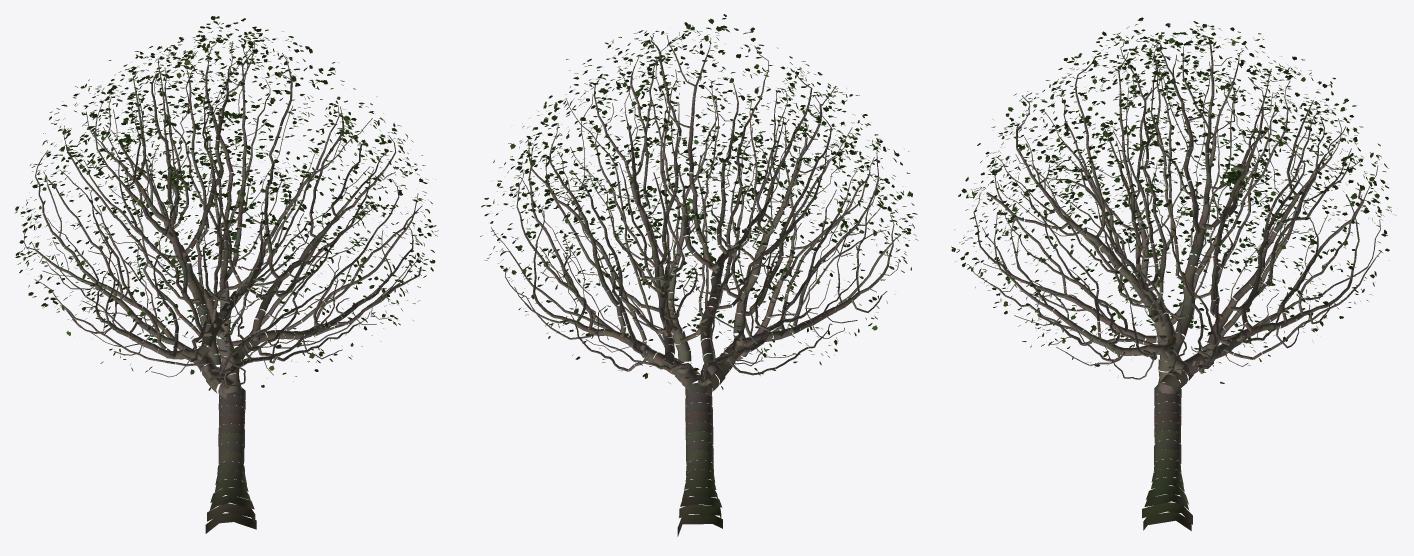
Rendered from SM_Tree_sycamore_0.glb.
3 views of the same model, side by side, from view 1: azimuth 30°, elevation 25°; view 2: azimuth 150°, elevation 25°; view 3: azimuth 270°, elevation 25° (orthographic). The views are drawn at different scales.
Visible parts, largest first — view 1: SM_Tree_sycamore_0; view 2: SM_Tree_sycamore_0; view 3: SM_Tree_sycamore_0.
Part boxes in pixels (x1,y1,x2,y2): SM_Tree_sycamore_0: (15,16,438,533); SM_Tree_sycamore_0: (480,14,918,536); SM_Tree_sycamore_0: (951,17,1396,530).
Size of the model in its own units: 12.73 by 15.87 by 12.83.
